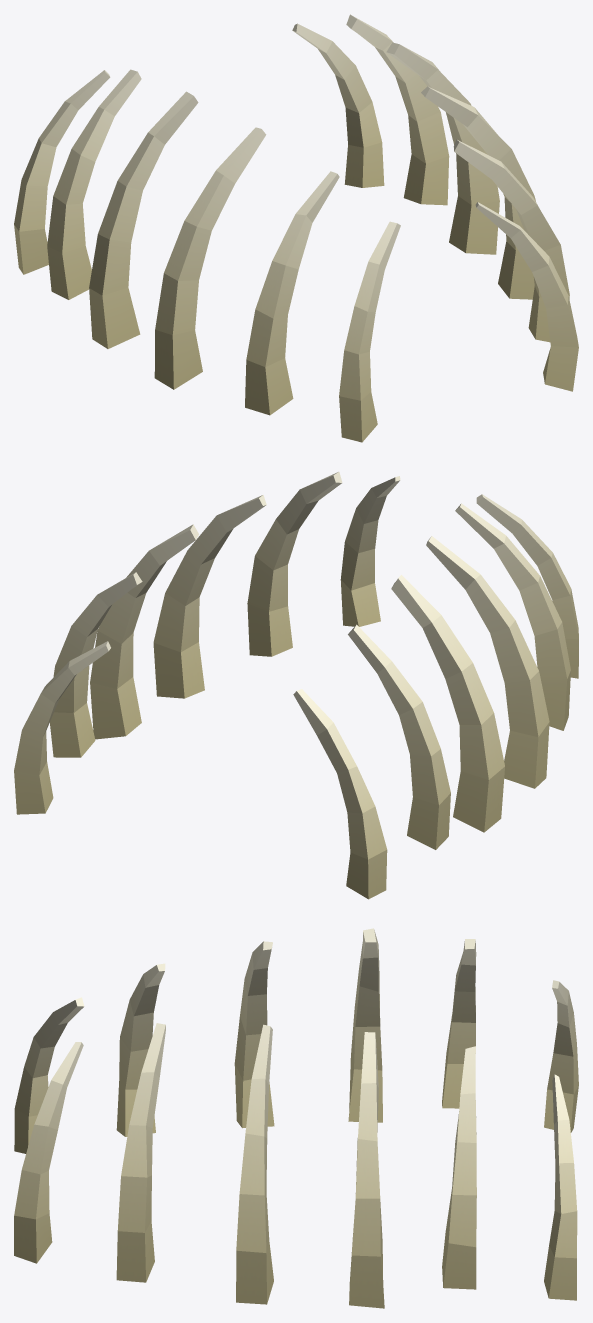
File: Bones_GiantRibCage.fbx
3 renders of one model, top to bottom at view 1: azimuth 30°, elevation 25°; view 2: azimuth 150°, elevation 25°; view 3: azimuth 270°, elevation 25°, orthographic.
Visible parts, largest first — view 1: Bones_GiantRibCage; view 2: Bones_GiantRibCage; view 3: Bones_GiantRibCage.
Boxes of the visible parts, <box> form: Bones_GiantRibCage: <box>14,14,578,442</box>; Bones_GiantRibCage: <box>14,472,578,899</box>; Bones_GiantRibCage: <box>14,928,578,1308</box>.
Bounding box in the file's own units: 429 × 238 × 519.
